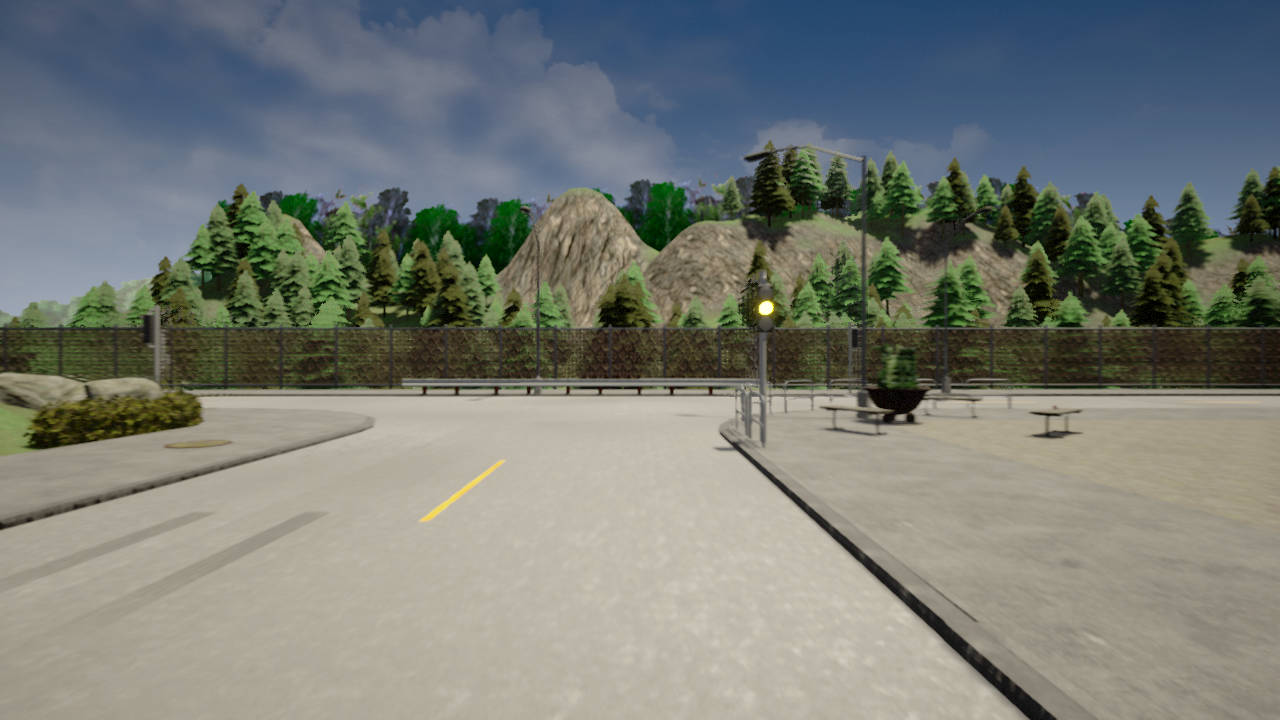yellow: (755, 285, 777, 334)
